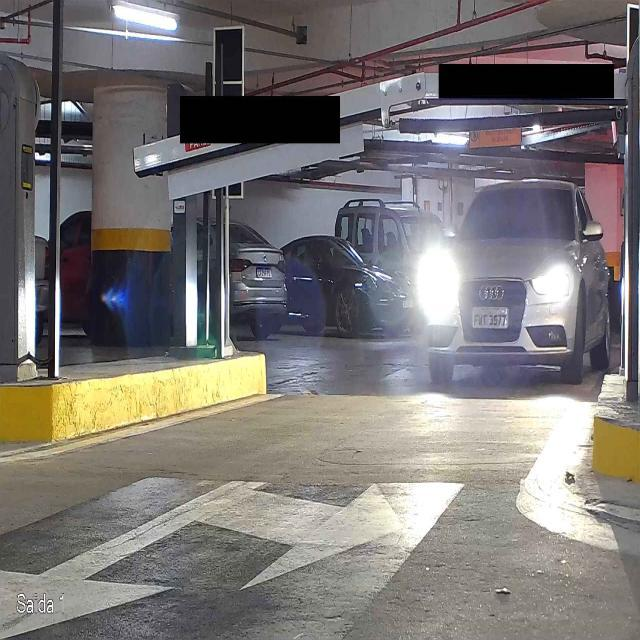old_plate: (470, 306, 512, 330)
